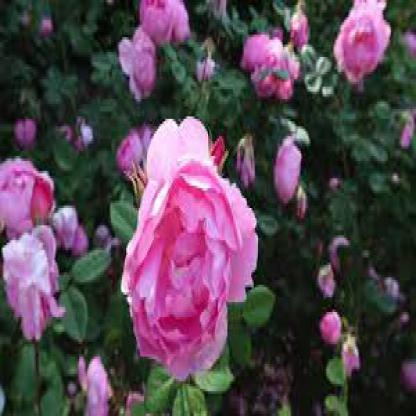Rose-Mawar: (253, 1, 392, 204), (1, 145, 65, 335), (305, 229, 371, 395), (50, 177, 93, 271), (77, 353, 112, 415)
